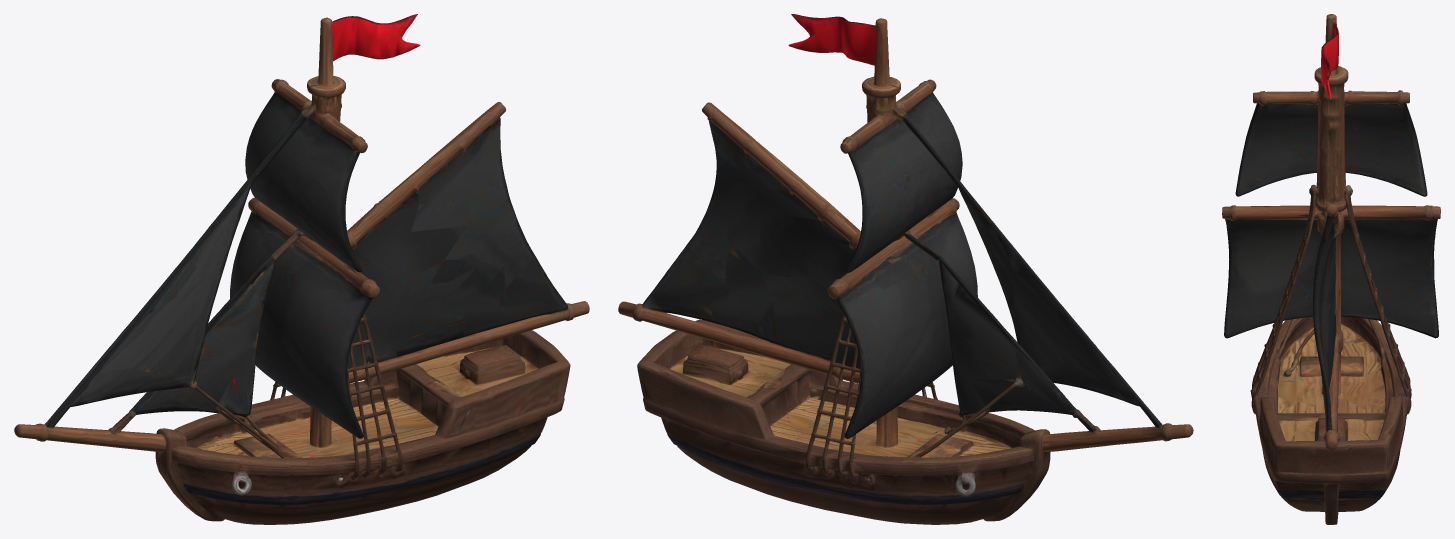
File: m_qar_animated.glb
3 views of the same model, side by side, from view 1: azimuth 30°, elevation 25°; view 2: azimuth 150°, elevation 25°; view 3: azimuth 270°, elevation 25° (orthographic). The views are drawn at different scales.
Parts seen in each view (by area): view 1: m_qar_Living_Scenery; view 2: m_qar_Living_Scenery; view 3: m_qar_Living_Scenery.
Boxes of the visible parts, x1,y1,x2,y2 form: m_qar_Living_Scenery: (14, 14, 589, 524); m_qar_Living_Scenery: (618, 14, 1193, 524); m_qar_Living_Scenery: (1222, 14, 1440, 524).
Bounding box in the file's own units: 1 × 0.8026 × 0.3685.
Materials: 1 (1 with a texture image).
